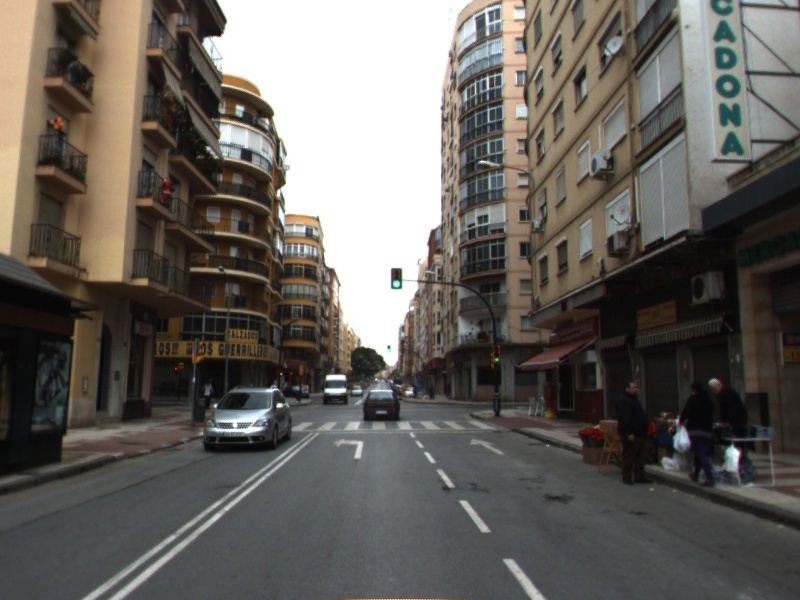LEFT: (331, 436, 365, 460)
STRAIGHT: (468, 437, 506, 456)
